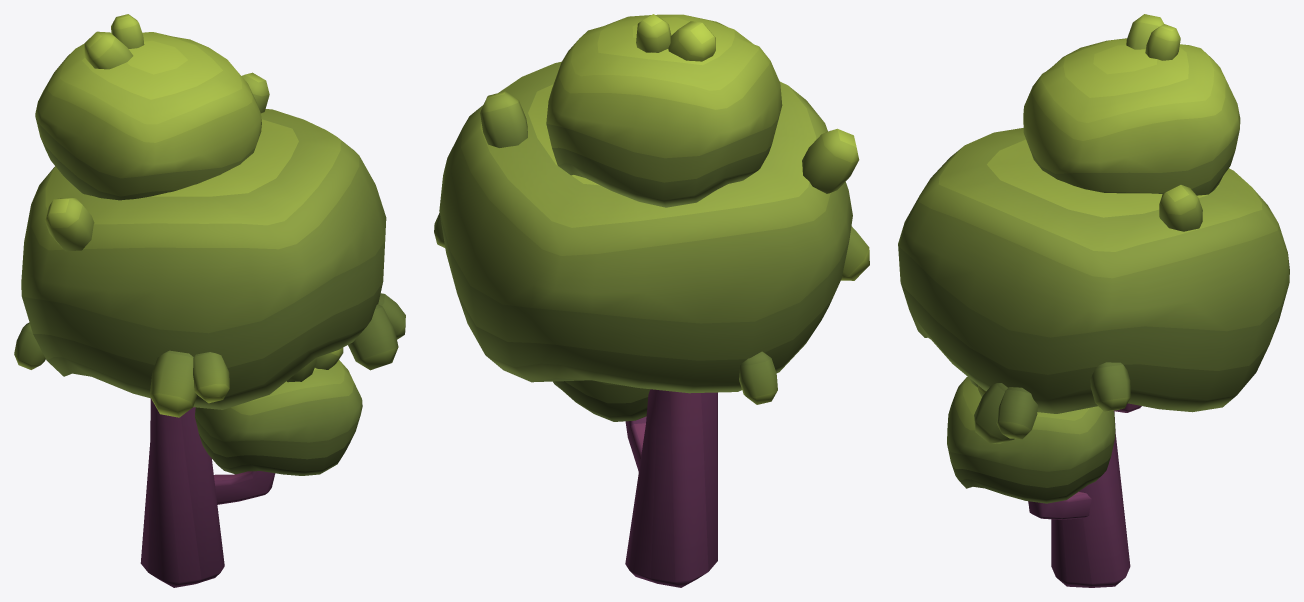
Rendered from grassland_tree_col1_7.fbx.
3 renders of one model, left to right at view 1: azimuth 30°, elevation 25°; view 2: azimuth 150°, elevation 25°; view 3: azimuth 270°, elevation 25°, orthographic. The views are drawn at different scales.
Visible parts, largest first — view 1: grassland_tree_col1_7; view 2: grassland_tree_col1_7; view 3: grassland_tree_col1_7.
Boxes of the visible parts, left/top/right/bottom form: grassland_tree_col1_7: left=14, top=14, right=405, bottom=587; grassland_tree_col1_7: left=434, top=14, right=869, bottom=587; grassland_tree_col1_7: left=898, top=14, right=1289, bottom=587.
Size of the model in its own units: 428 by 620 by 407.
1 material, 1 textured.
